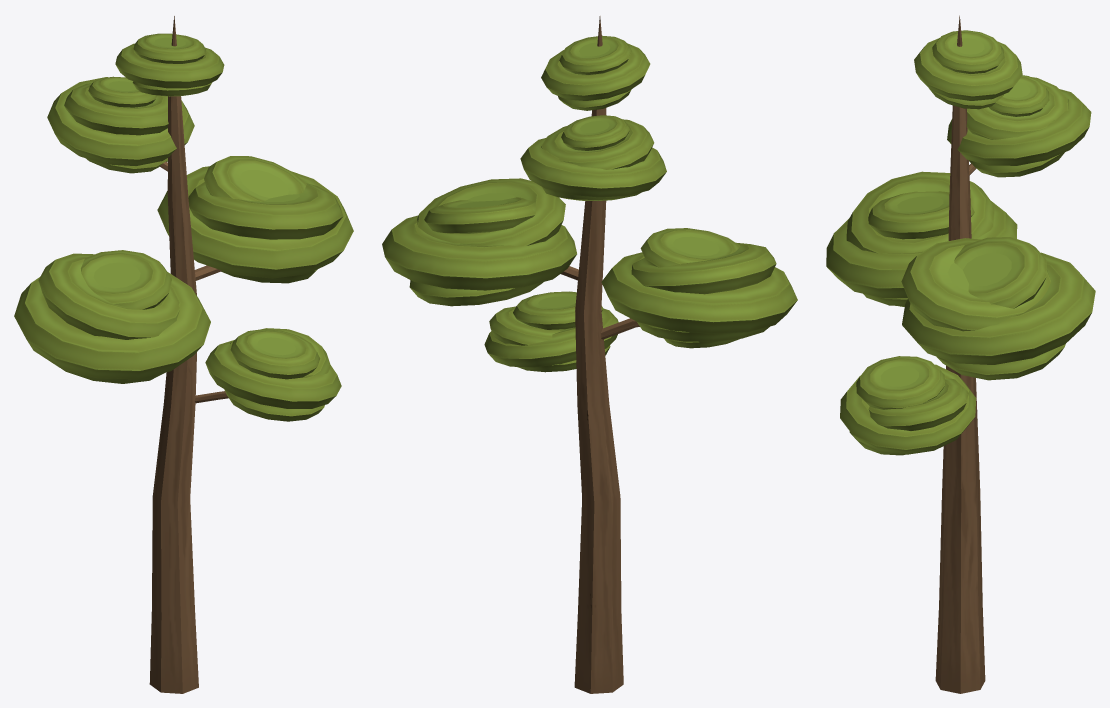
File: TallPine.fbx
3 renders of one model, left to right at view 1: azimuth 30°, elevation 25°; view 2: azimuth 150°, elevation 25°; view 3: azimuth 270°, elevation 25°, orthographic.
Parts seen in each view (by area): view 1: TallPine; view 2: TallPine; view 3: TallPine.
Boxes of the visible parts, <box> form: TallPine: <box>14,16,353,693</box>; TallPine: <box>382,16,797,693</box>; TallPine: <box>826,15,1095,693</box>.
Bounding box in the file's own units: 14.21 × 25.81 × 9.43.
Materials: 1 (1 with a texture image).
